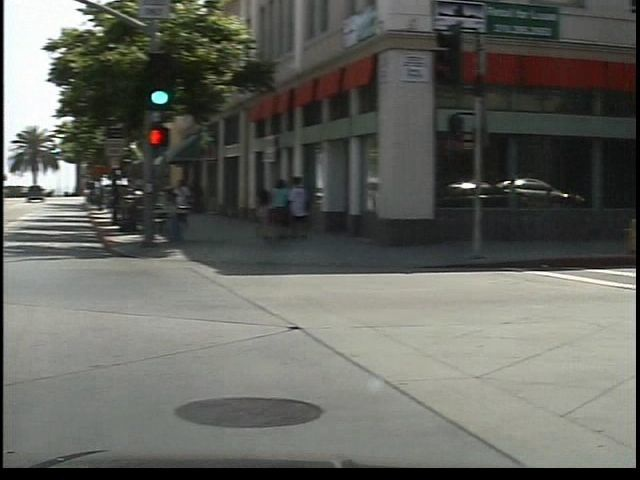person: (183, 172, 209, 237)
